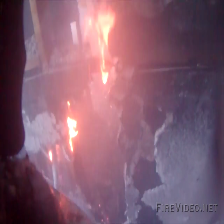fire_h: (98, 14, 116, 47), (66, 116, 78, 152), (99, 47, 110, 85)
fire_l: (48, 149, 53, 162), (67, 100, 71, 106)
